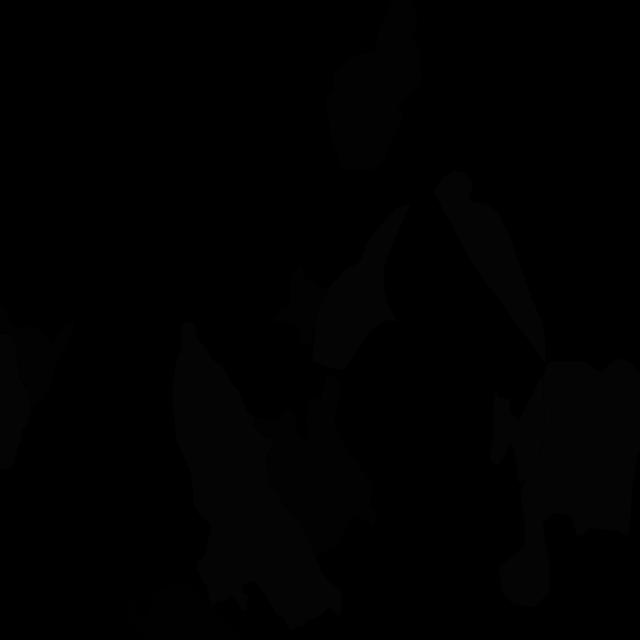cardboard: (253, 375, 377, 557), (325, 0, 421, 170), (0, 304, 74, 416), (272, 266, 330, 344)
rigid_plastic: (126, 582, 240, 640)
soft_plastic: (172, 321, 343, 630), (498, 358, 640, 607), (433, 171, 546, 364), (312, 203, 411, 370), (490, 374, 545, 483), (0, 333, 30, 470)
